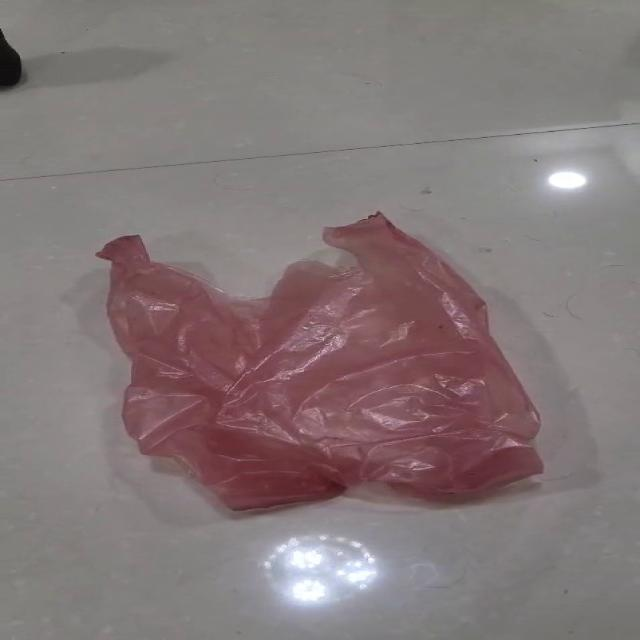plastic: (95, 209, 545, 513)
